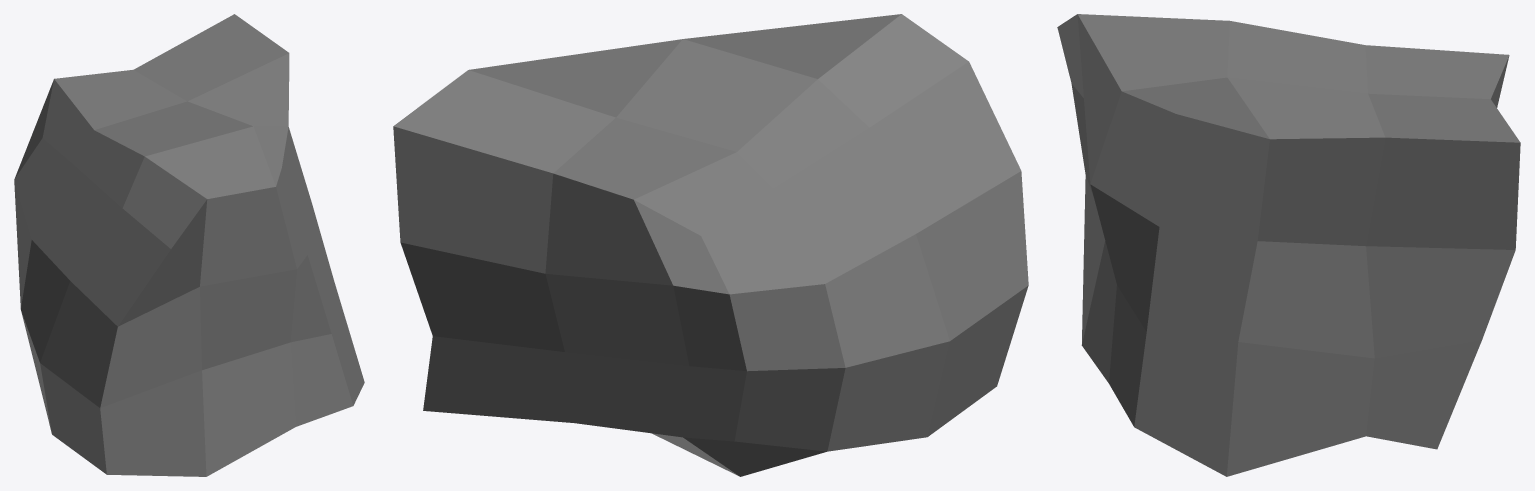
The model's file is rock-m-blocky.glb.
The picture shows the model from 3 angles, left to right: view 1: azimuth 30°, elevation 25°; view 2: azimuth 150°, elevation 25°; view 3: azimuth 270°, elevation 25°; orthographic projection. The views are drawn at different scales.
Visible parts, largest first — view 1: rock-m-blocky; view 2: rock-m-blocky; view 3: rock-m-blocky.
Boxes of the visible parts, <box> form: rock-m-blocky: <box>14,14,364,476</box>; rock-m-blocky: <box>393,14,1028,476</box>; rock-m-blocky: <box>1057,14,1520,476</box>.
Bounding box in the file's own units: 2.09 × 1.71 × 2.15.
Materials: 1 (1 with a texture image).
